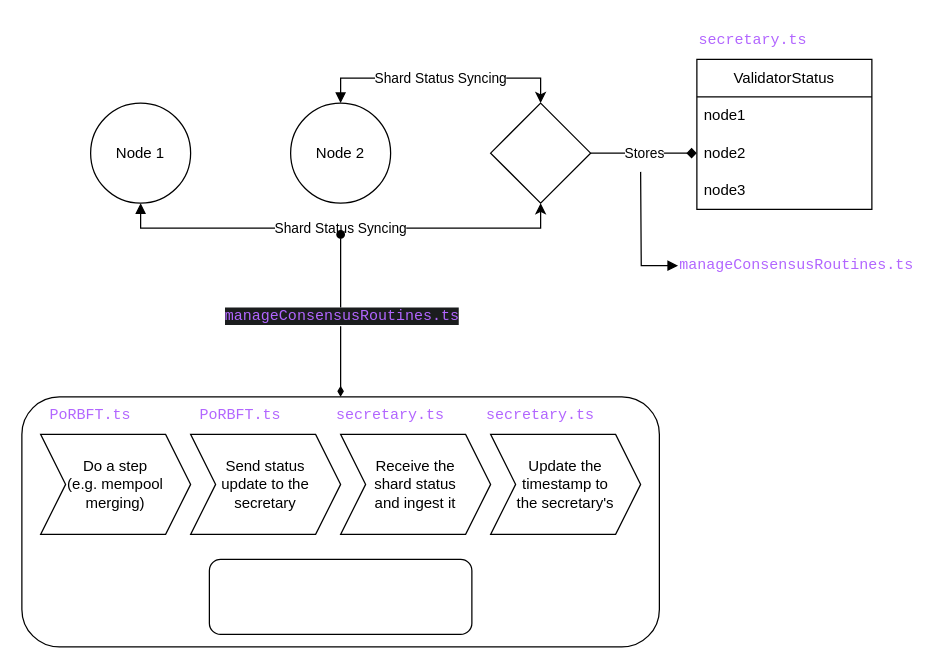
Some shapes in this 938 by 669 pixel diagram are drawn without their labels. The shapes that lost their labels are listed below. From the top down, each one's centre as x and y in pixels, then its label:
At (x=540, y=152): "Node 3 Secretary".
At (x=340, y=596): "Shard partecipants wait for the shard status to be synced before continuing".
